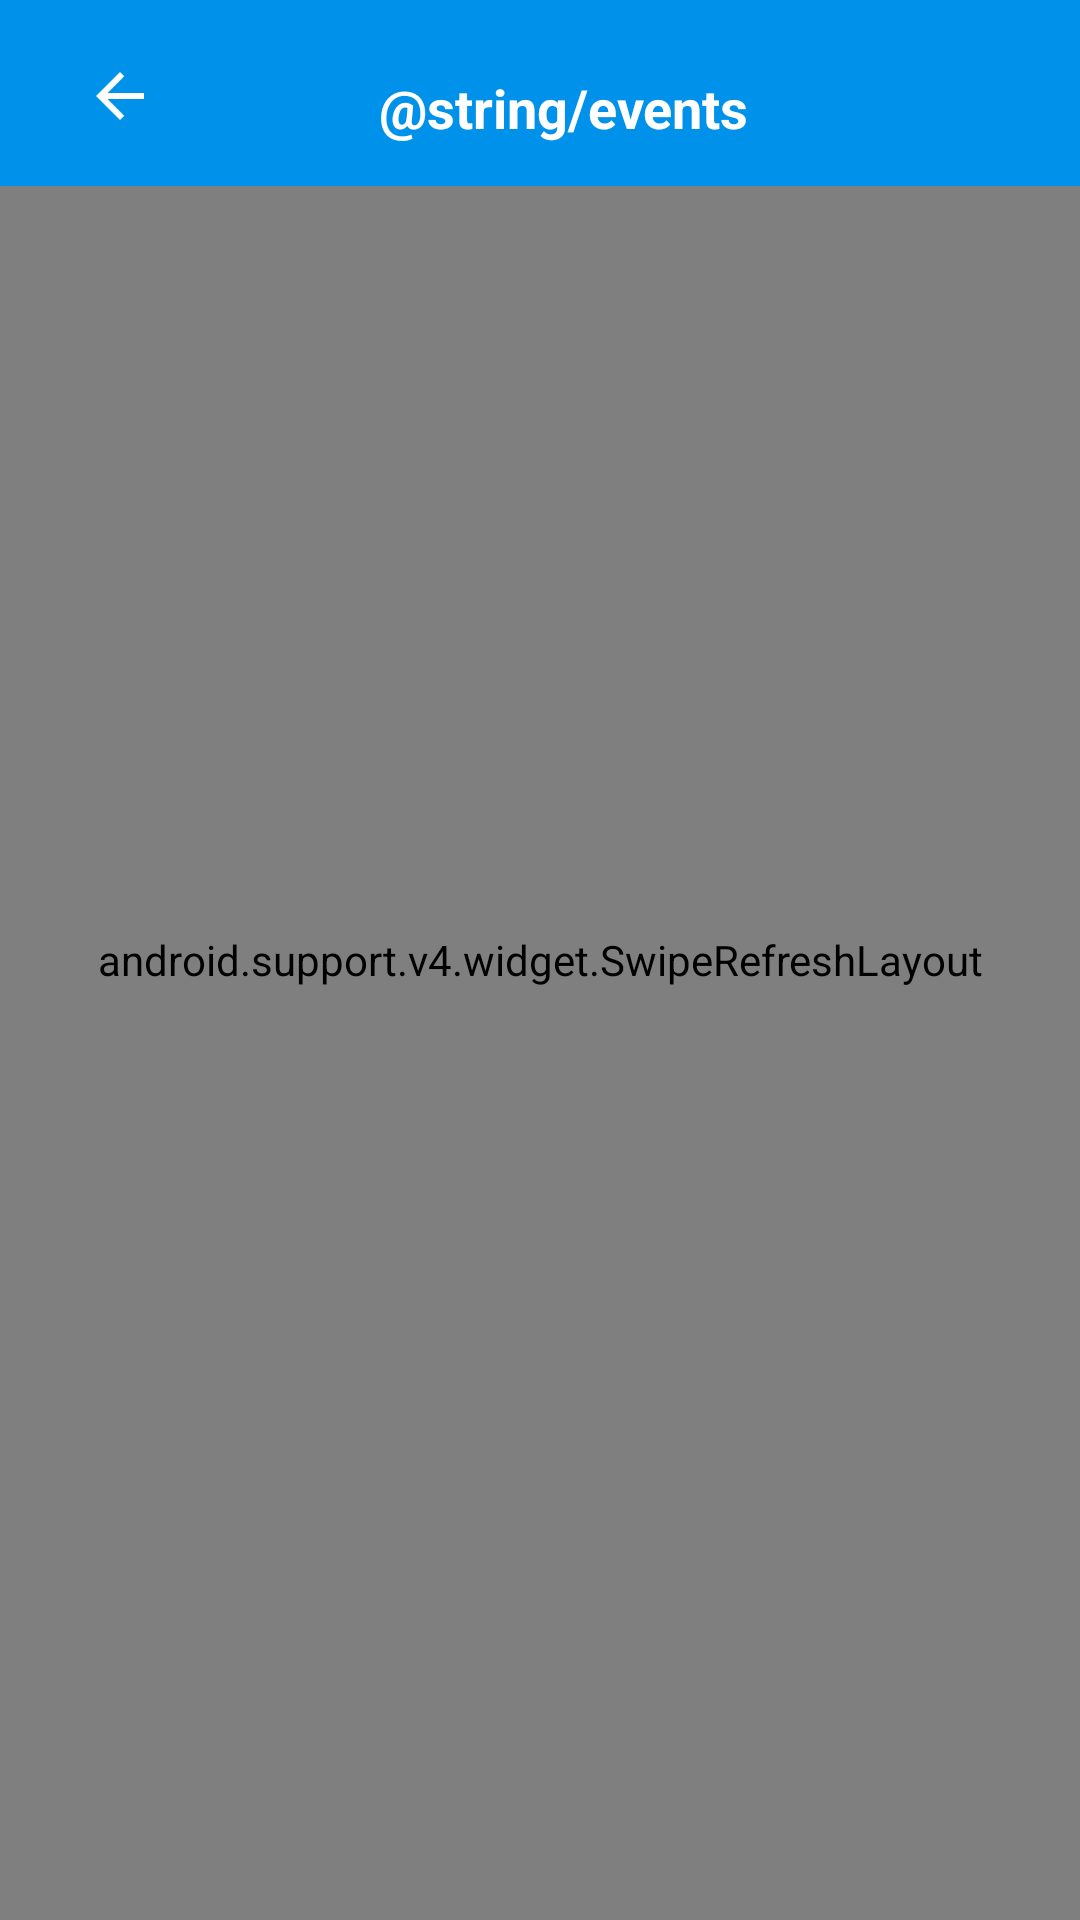

Screen size 1080px×1920px. Icon name, then its center in pixels as (x=x, y=y):
arrow back: (x=120, y=96)
